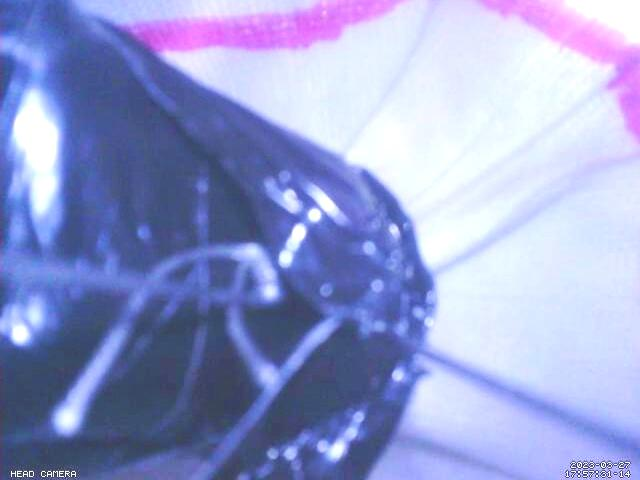red-circle: (118, 0, 640, 141)
